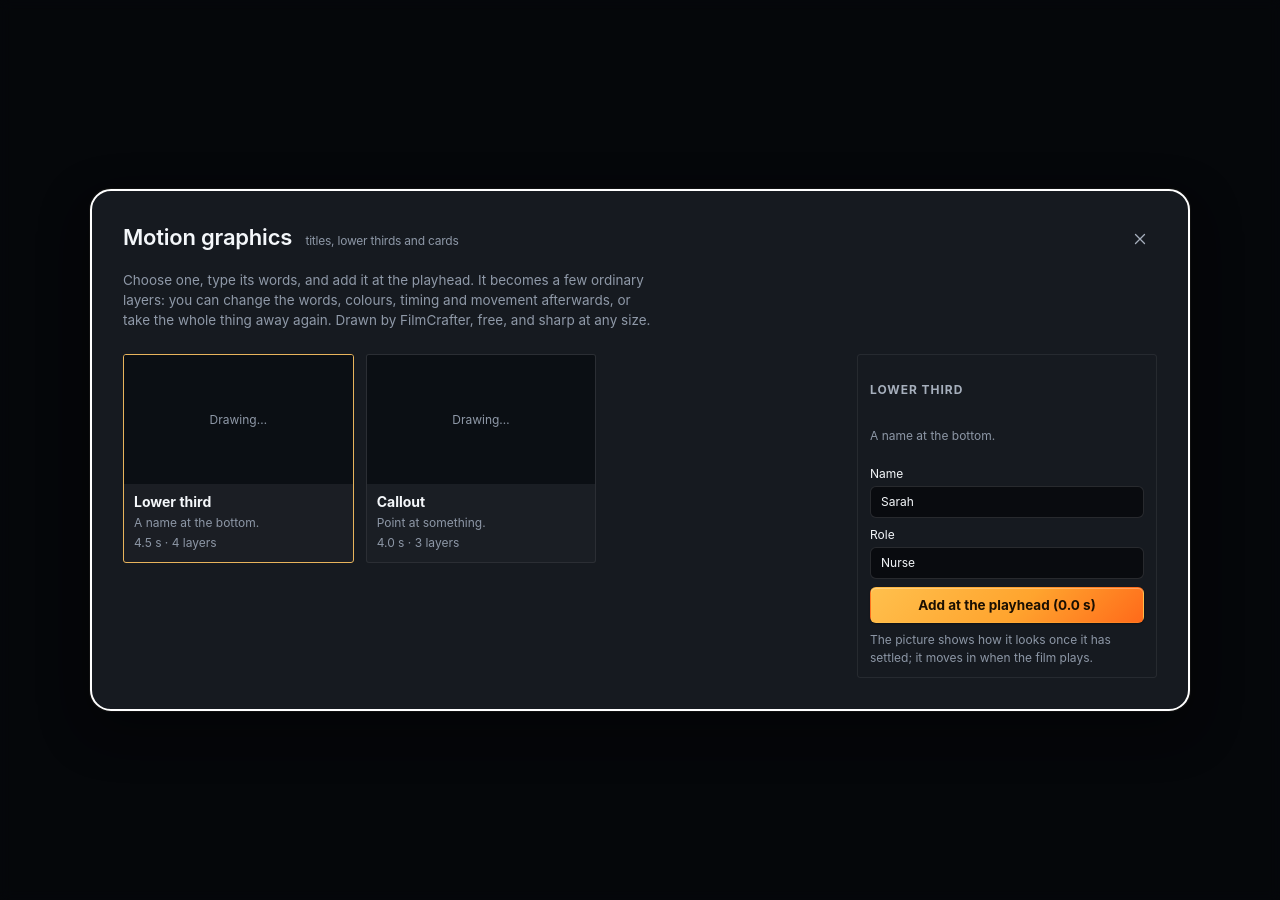
Test: the motion graphics sheet › keeps each template's words apart and says plainly when it cannot be added
Click the button "Drawing… Callout Point at something. 4.0 s · 3 layers" at coordinates (481, 458), box [367, 355, 595, 562]
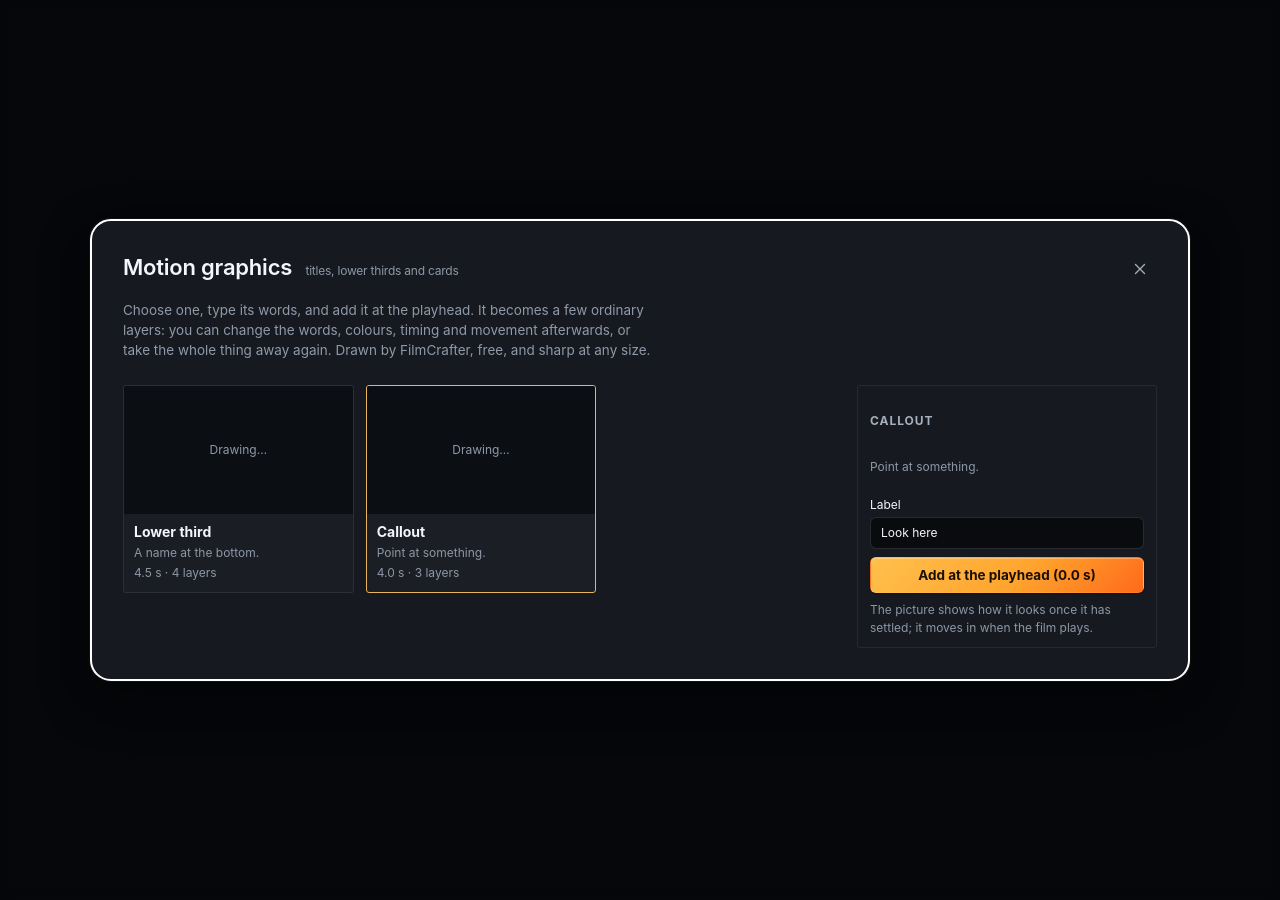
Replace the text in the field labelled "Label" with "Here" at coordinates (1007, 533), box [870, 517, 1144, 549]
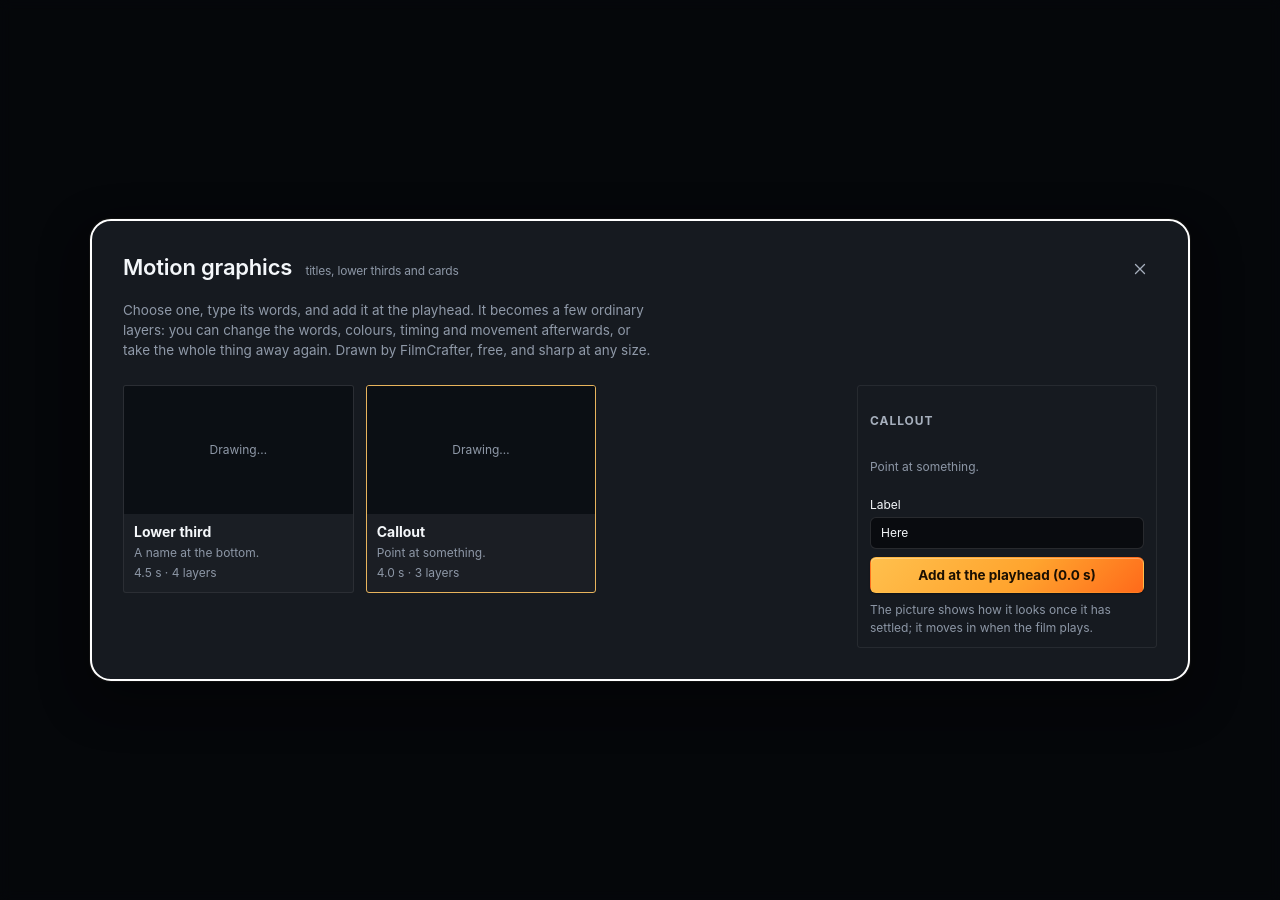
Click the button "Drawing… Lower third A name at the bottom. 4.5 s · 4 layers" at coordinates (238, 489), box [124, 386, 353, 592]
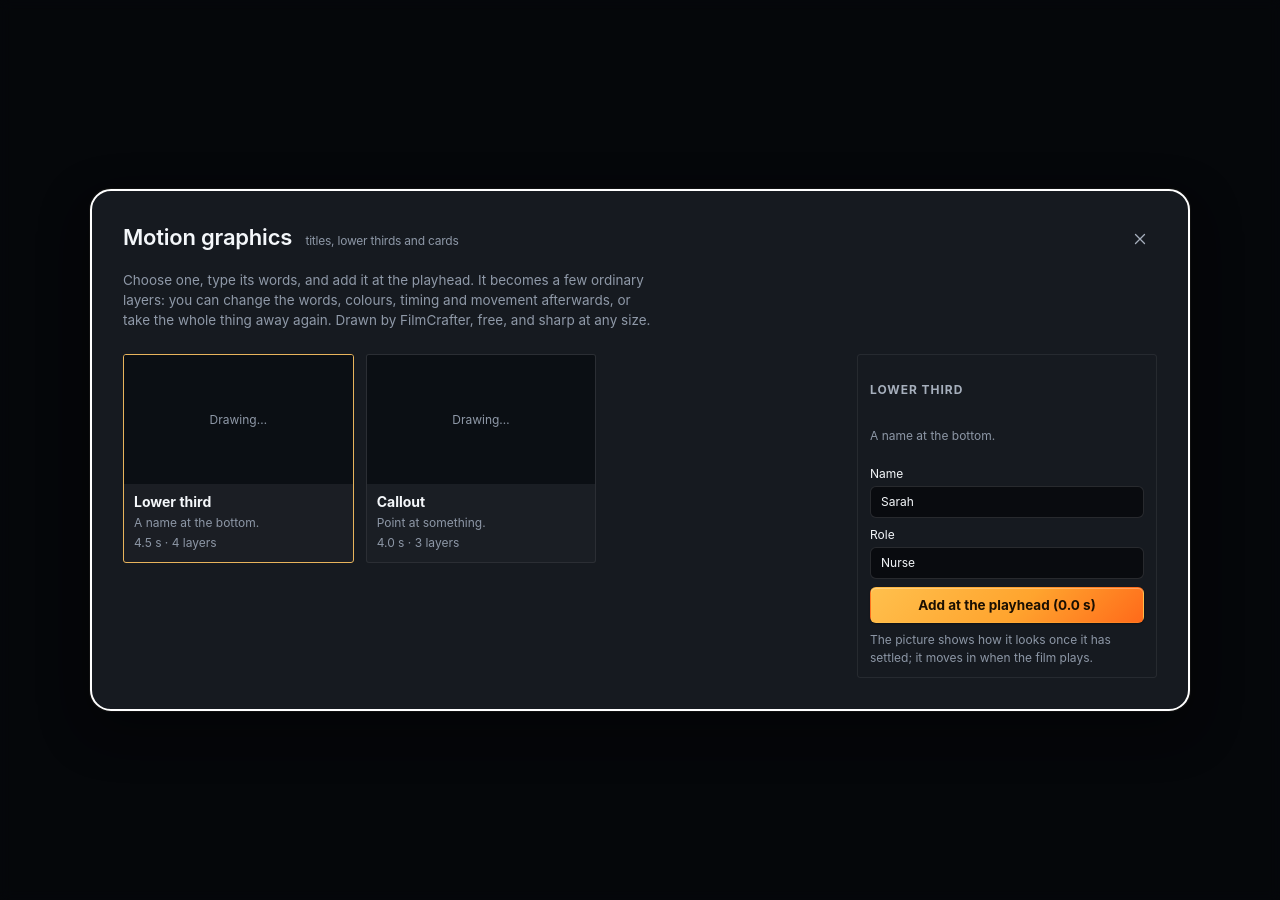
expect the field labelled "Name" holds "Sarah": met, box [870, 486, 1144, 518]
Click the button "Add at the playhead (0.0 s)" at coordinates (1007, 605), box [870, 587, 1144, 623]
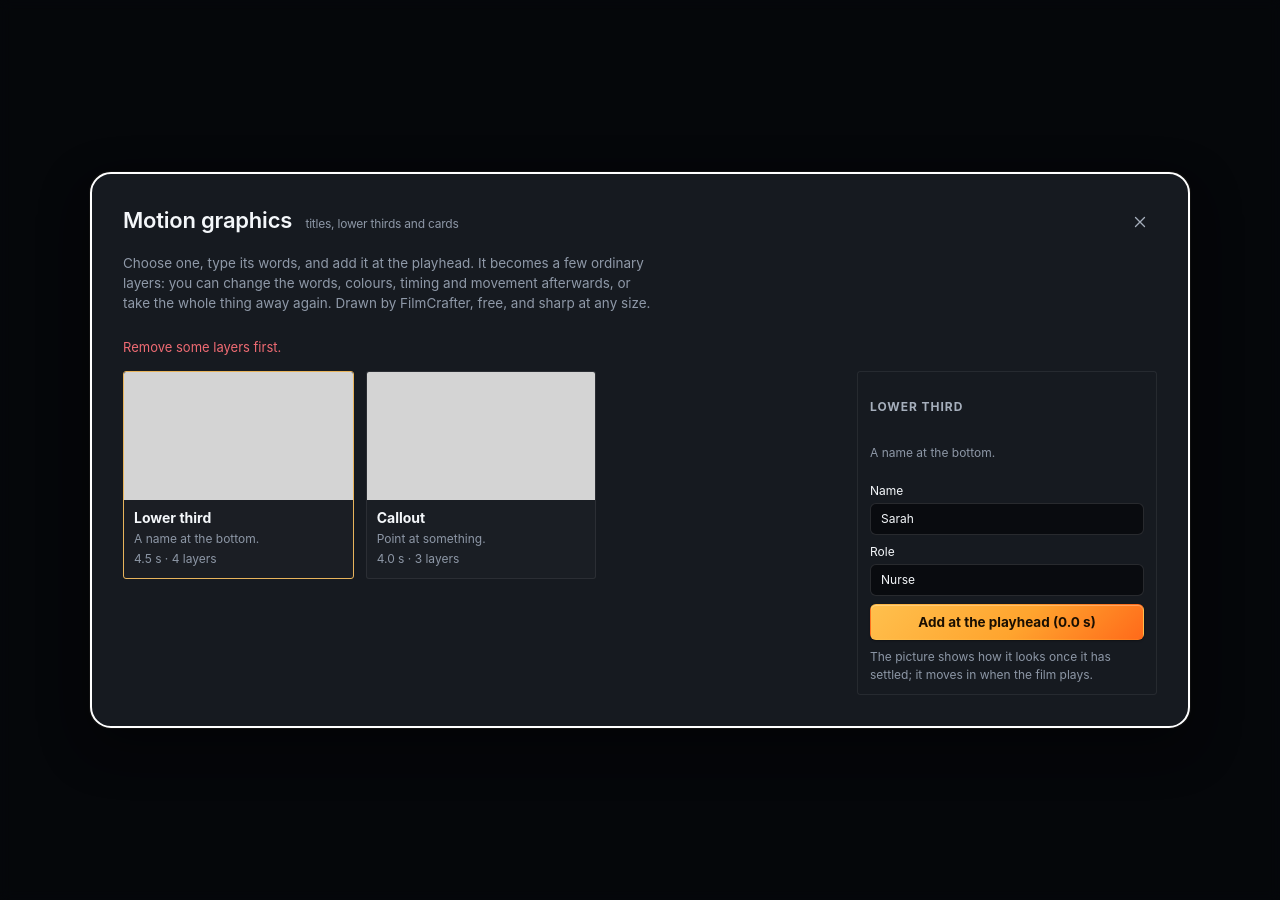
expect the message reads "Remove some layers first.": met, box [123, 339, 281, 355]
